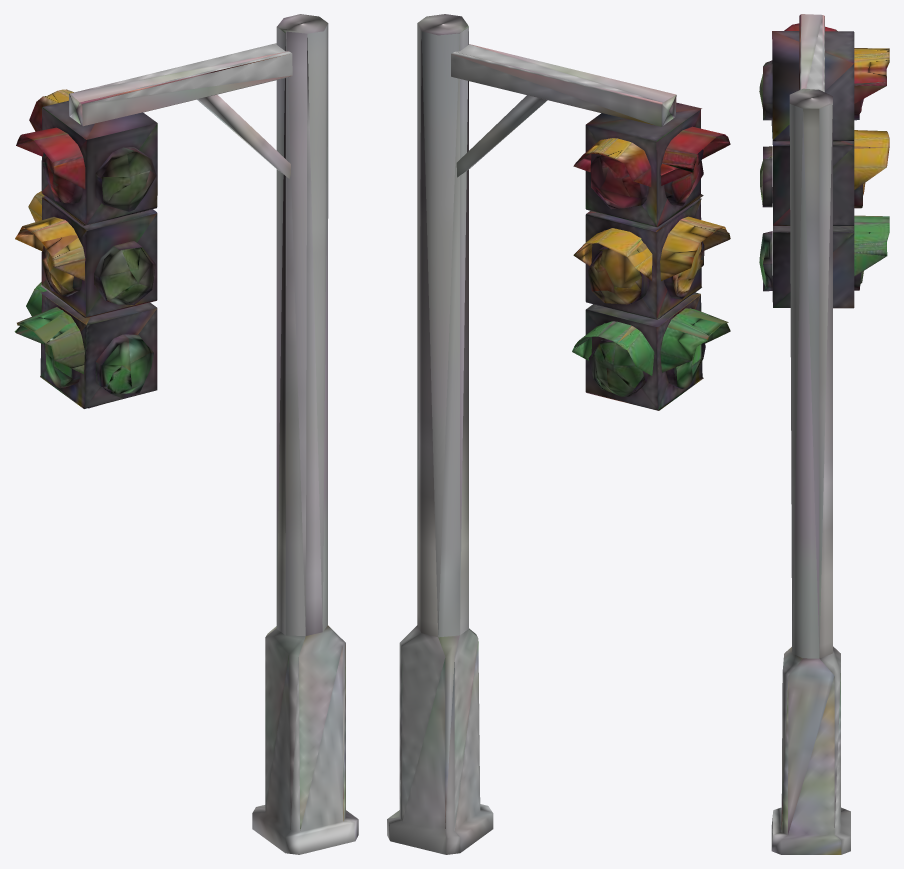
File: 55-traffic-light.glb
The picture shows the model from 3 angles, left to right: view 1: azimuth 30°, elevation 25°; view 2: azimuth 150°, elevation 25°; view 3: azimuth 270°, elevation 25°; orthographic projection. The views are drawn at different scales.
Visible parts, largest first — view 1: geometry_0; view 2: geometry_0; view 3: geometry_0.
Boxes of the visible parts, x1,y1,x2,y2 form: geometry_0: (14, 14, 358, 854); geometry_0: (387, 14, 730, 854); geometry_0: (759, 14, 889, 854).
Bounding box in the file's own units: 0.3862 × 0.9497 × 0.1514.
Materials: 1 (1 with a texture image).
